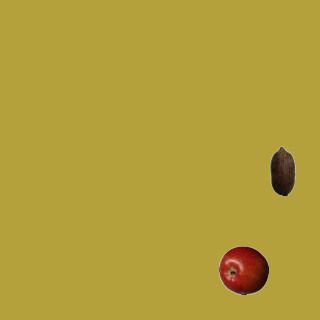Apple Braeburn: (218, 245, 268, 295)
Nut Pecan: (257, 145, 307, 195)
